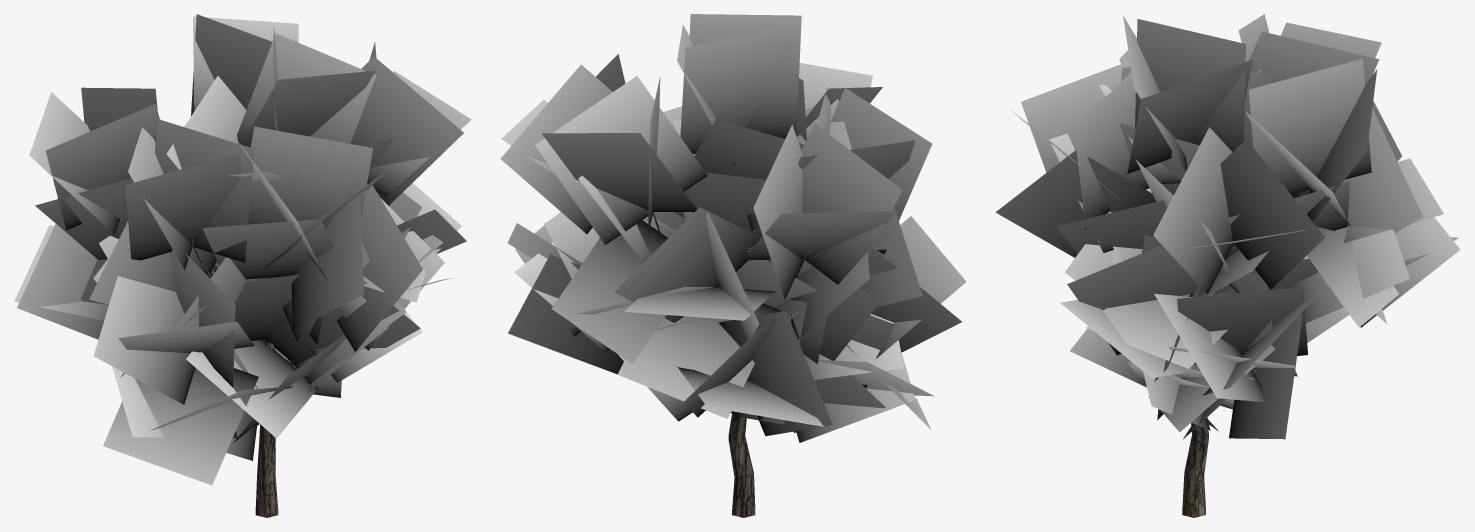
Rendered from tree5A.fbx.
3 views of the same model, side by side, from view 1: azimuth 30°, elevation 25°; view 2: azimuth 150°, elevation 25°; view 3: azimuth 270°, elevation 25° (orthographic). The views are drawn at different scales.
Parts seen in each view (by area): view 1: tree5A_Leafs, tree5A_Leafs_flip, tree5a_trunk; view 2: tree5A_Leafs, tree5A_Leafs_flip, tree5a_trunk; view 3: tree5A_Leafs, tree5A_Leafs_flip, tree5a_trunk.
Part boxes in pixels (bbox=[...]): tree5A_Leafs: bbox=[14, 14, 471, 485]; tree5A_Leafs_flip: bbox=[16, 15, 465, 481]; tree5a_trunk: bbox=[191, 235, 294, 517]; tree5A_Leafs: bbox=[500, 14, 966, 442]; tree5A_Leafs_flip: bbox=[501, 14, 961, 442]; tree5a_trunk: bbox=[645, 202, 810, 517]; tree5A_Leafs: bbox=[995, 14, 1460, 439]; tree5A_Leafs_flip: bbox=[1002, 19, 1458, 438]; tree5a_trunk: bbox=[1182, 177, 1319, 517].
Bounding box in the file's own units: 11.64 × 12.68 × 11.01.
